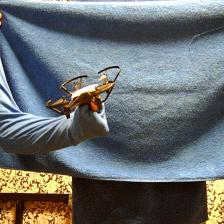drone: (46, 63, 122, 122)
